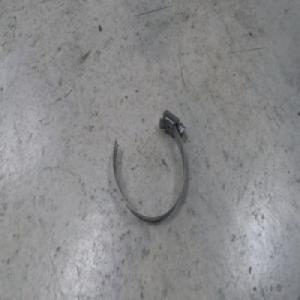AdjustableClamp: (111, 109, 189, 227)
